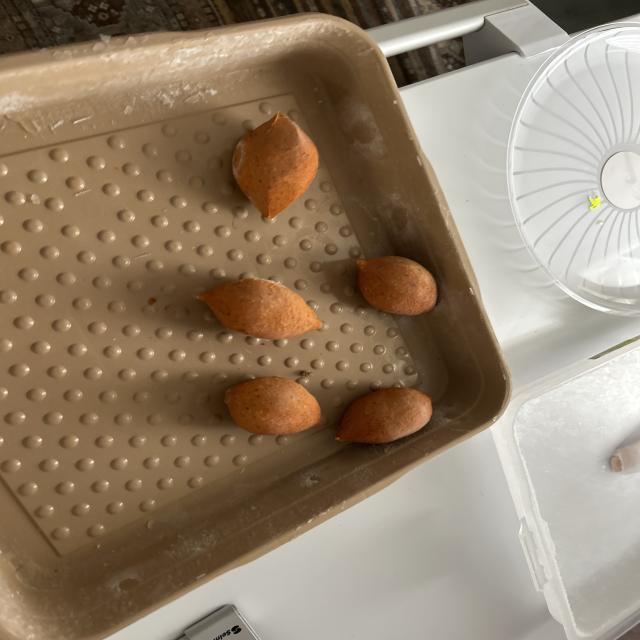kobi: (231, 110, 319, 220), (195, 282, 329, 340), (216, 376, 325, 434), (334, 393, 437, 445), (355, 262, 439, 317)
